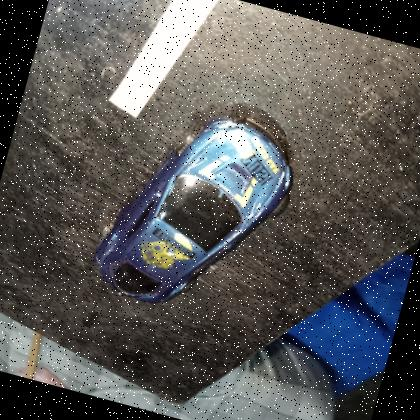Car: (83, 87, 306, 335)
